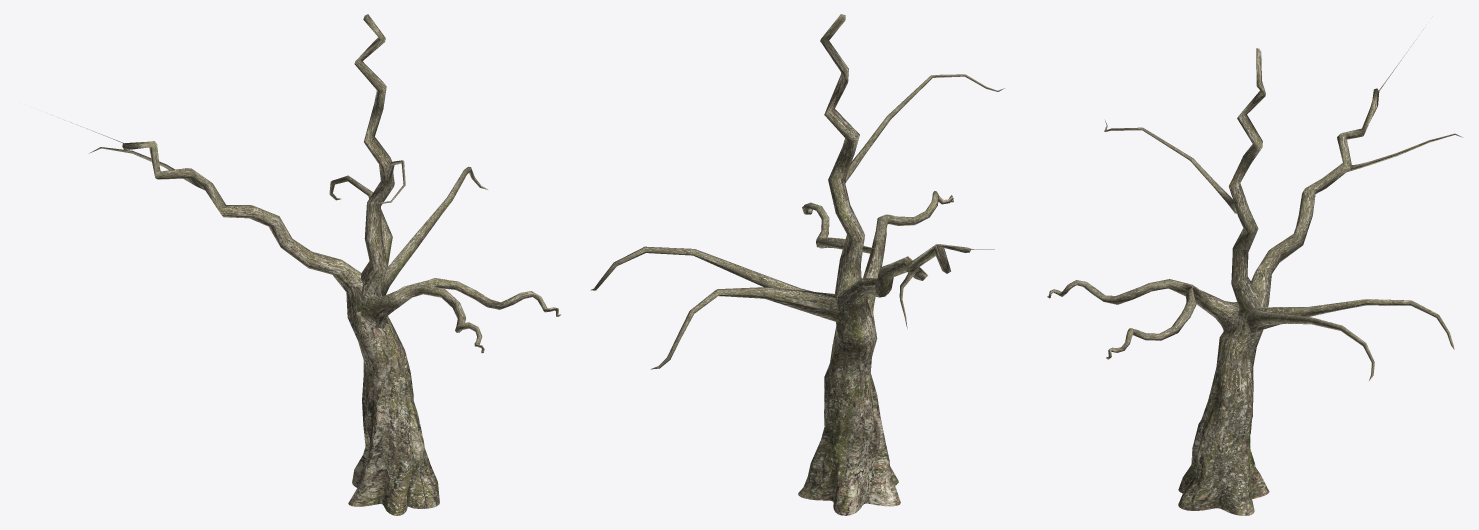
File: trunk4.obj
3 views of the same model, side by side, from view 1: azimuth 30°, elevation 25°; view 2: azimuth 150°, elevation 25°; view 3: azimuth 270°, elevation 25° (orthographic). The views are drawn at different scales.
Parts seen in each view (by area): view 1: tree; view 2: tree; view 3: tree.
Boxes of the visible parts, x1,y1,x2,y2 form: tree: (52, 14, 560, 515); tree: (590, 14, 1004, 515); tree: (1047, 29, 1463, 515).
Size of the model in its own units: 505 by 513 by 436.
1 material, 1 textured.
